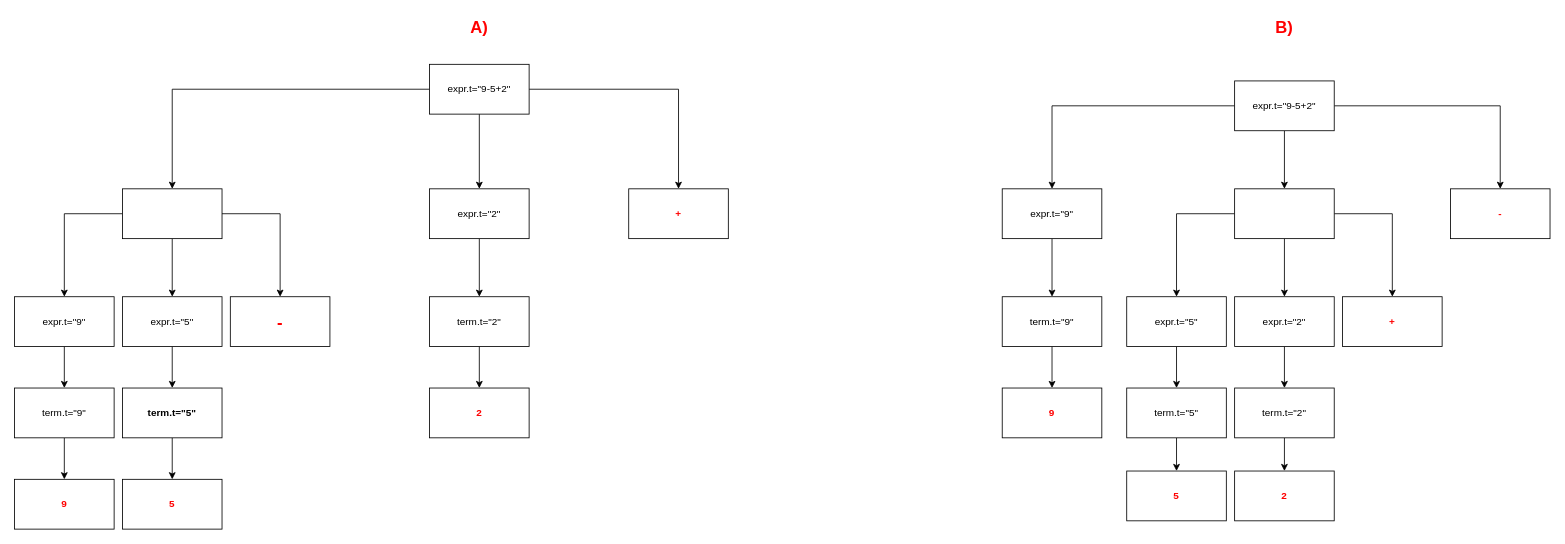
The diagram is 1565 pixels wide and 544 high, and some of its shapes have lost their labels. Each missing label, with the centre of its shape:
expr.t="5+2": the point at 1284,213
expr.t="9-5": the point at 172,213
